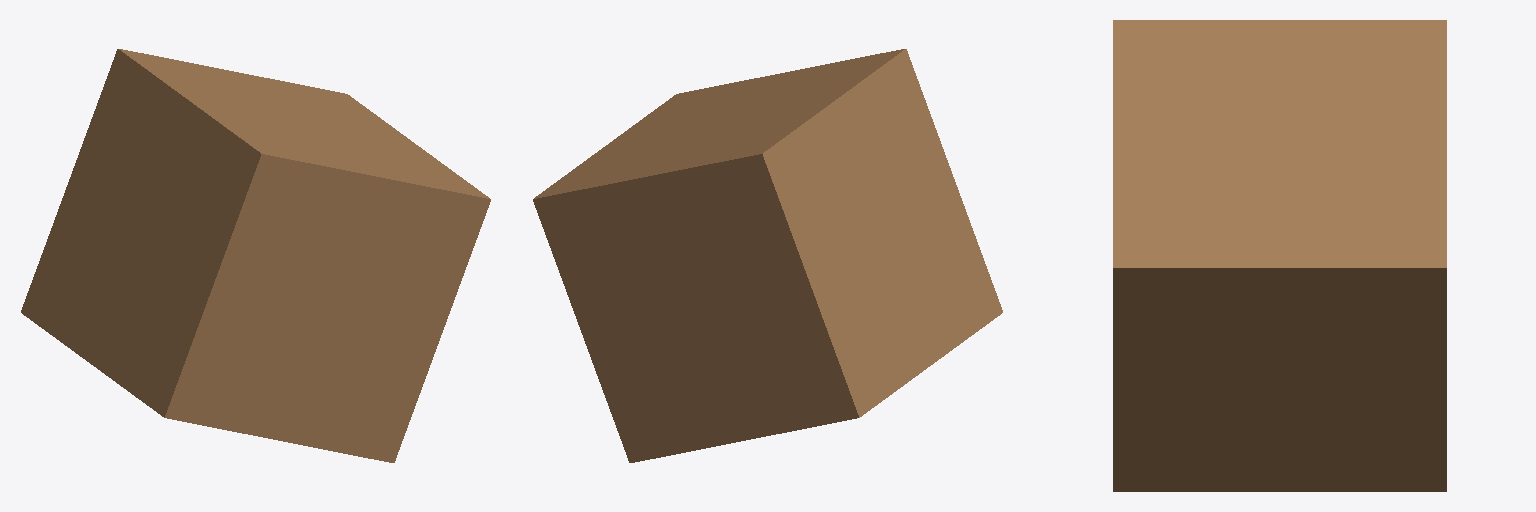
URDF robot description (single_box):
<robot name="single_box">
  <material name="Box_color">
    <color rgba="0.678 0.529 0.384 1.0"/>
  </material>
  <material name="Green">
    <color rgba="0 1 0 1.0"/>
  </material>

    <link name="base">
        <inertial>
            <origin xyz="0 0 0"/>
            <mass value="1"/>
            <inertia ixx="0.0267" ixy="0" ixz="0" iyy="0.0267" iyz="0" izz="0.0267"/>
        </inertial>
        <!-- <visual>
            <origin xyz="0 0 0"/>
            <geometry>
                <box size="0.4 0.4 0.4"/>
            </geometry>
            <material name="Box_color"/>
        </visual> -->
        <visual>
            <origin xyz="-2.15 2.55 1.685" rpy="0 0.4 0"/> <!-- 1.2-->
            <geometry>
                <box size="0.4 0.4 0.4"/>
            </geometry>
            <material name="Box_color"/>
        </visual>
       
    </link>
</robot>

--- What the picture shows (computed from the rendered views, not written in the file) ---
3 views of the same robot in one strip: view 1: azimuth 30°, elevation 25°; view 2: azimuth 150°, elevation 25°; view 3: azimuth 270°, elevation 25° (orthographic).
Robot: single_box — 1 links, 0 joints (none); root link base; default pose: every joint at zero.
Links seen in each view (by area): view 1: base; view 2: base; view 3: base.
Boxes of the visible links, left/top/right/bottom form: base: left=21, top=49, right=490, bottom=462; base: left=533, top=49, right=1002, bottom=462; base: left=1113, top=20, right=1446, bottom=491.
Size in the robot's own frame: 0.5242 by 0.4 by 0.5242 metres.
Geometry: primitives only (box / cylinder / sphere), no mesh files.
